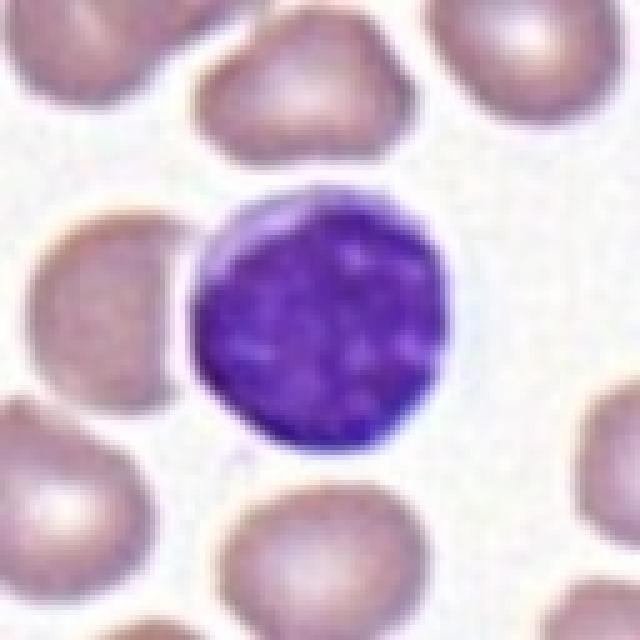lympho: (186, 172, 464, 462)
